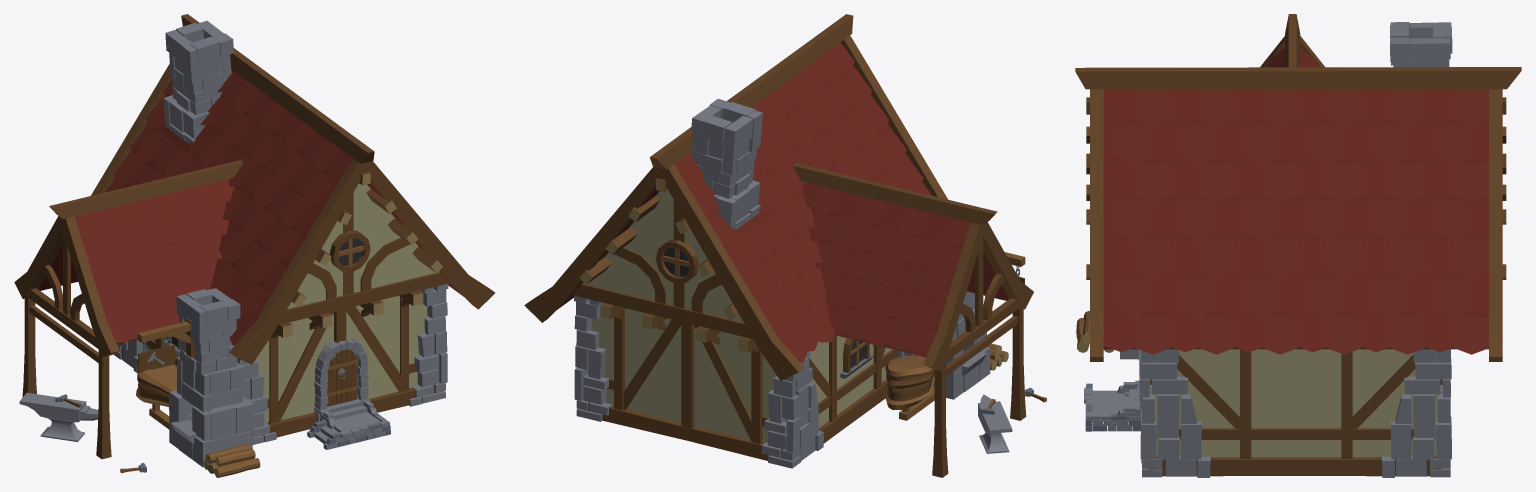
The model's file is Blacksmith.glb.
3 views of the same model, side by side, from view 1: azimuth 30°, elevation 25°; view 2: azimuth 150°, elevation 25°; view 3: azimuth 270°, elevation 25° (orthographic). The views are drawn at different scales.
Visible parts, largest first — view 1: Blacksmith_Cube.000; view 2: Blacksmith_Cube.000; view 3: Blacksmith_Cube.000.
Boxes of the visible parts, x1=… form: Blacksmith_Cube.000: x1=14, y1=14, x2=495, y2=477; Blacksmith_Cube.000: x1=524, y1=14, x2=1046, y2=477; Blacksmith_Cube.000: x1=1075, y1=14, x2=1521, y2=477.
Size of the model in its own units: 3.89 by 3 by 3.28.
Materials: 1 (1 with a texture image).
